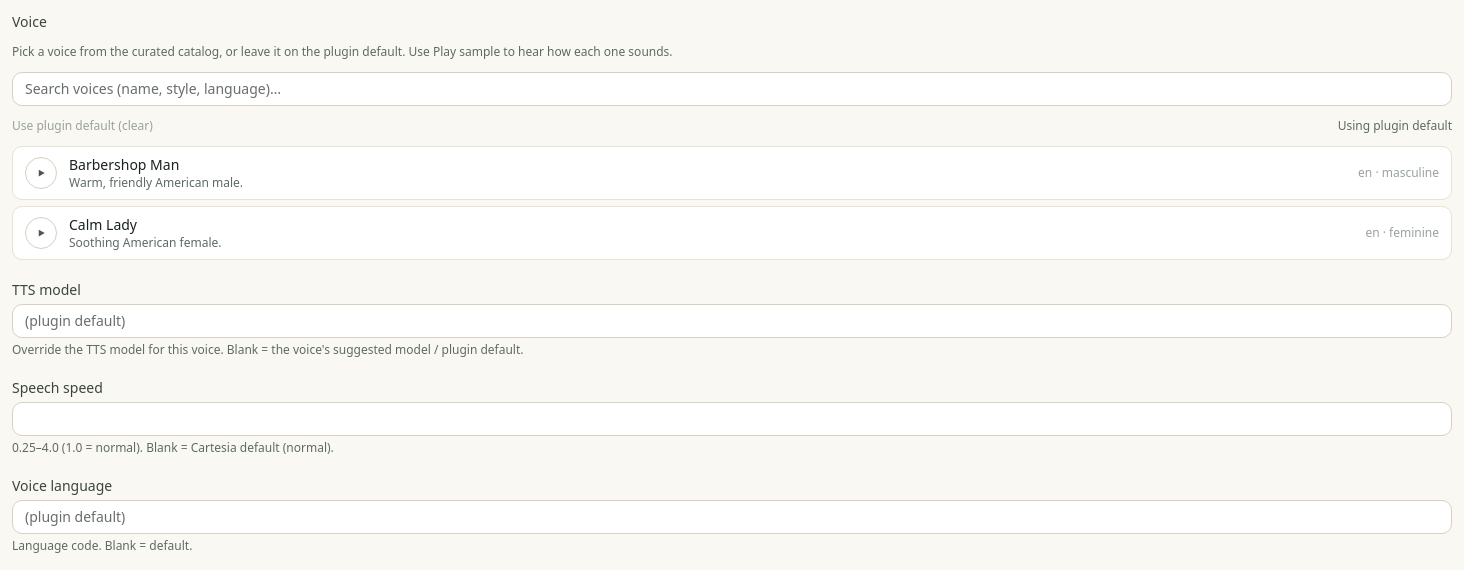
Test: VoiceSection picker › filters the voice list by a search term
The image size is (1464, 570).
Check: the text "Barbershop Man" is shown, box [69,155,179,174]
Type "calm" into the field with placeholder "Search voices (name, style, language)…".
click(732, 89); type("calm")  # box [12,72,1452,106]
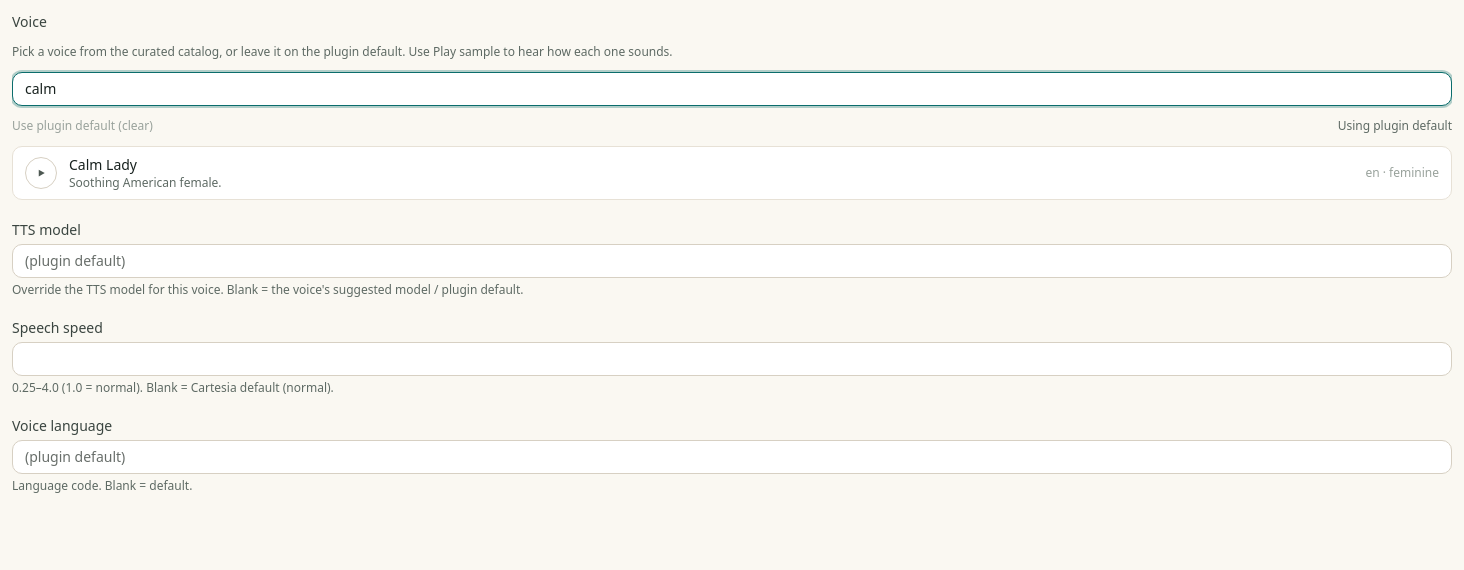
Check: the text "Calm Lady" is shown, box [69,155,137,174]
Check: the button "Barbershop Man" is gone
